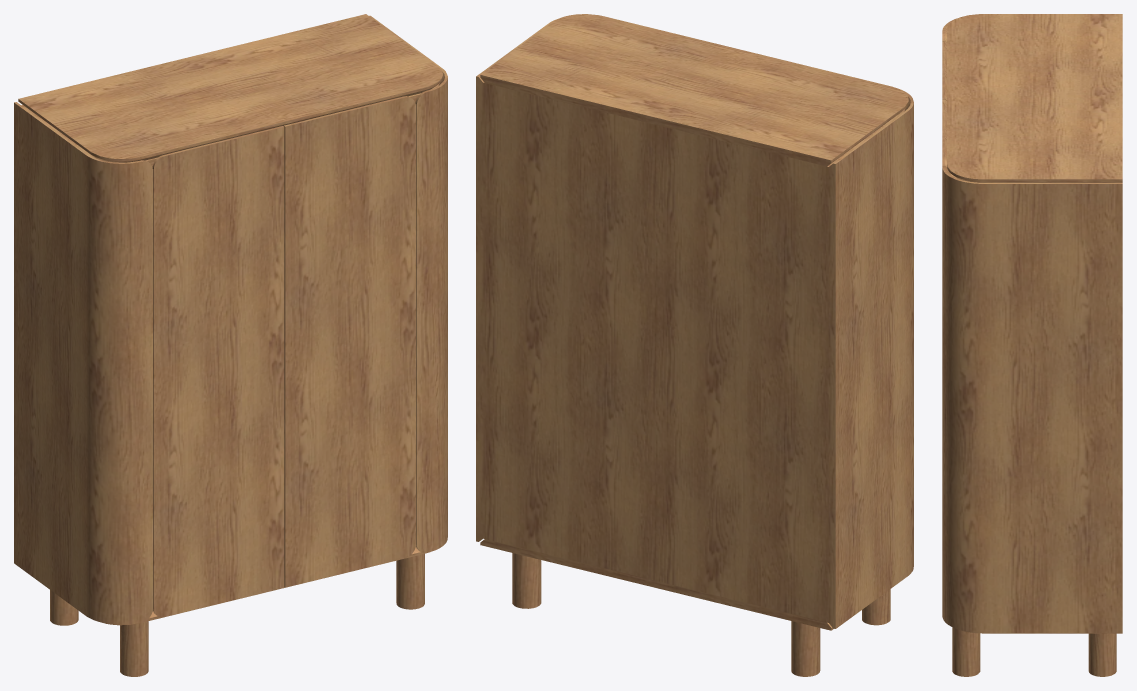
Rendered from sideboard-v2.glb.
The picture shows the model from 3 angles, left to right: view 1: azimuth 30°, elevation 25°; view 2: azimuth 150°, elevation 25°; view 3: azimuth 270°, elevation 25°; orthographic projection. The views are drawn at different scales.
Size of the model in its own units: 1 by 1.4 by 0.45.
Materials: 2 (2 with a texture image).
